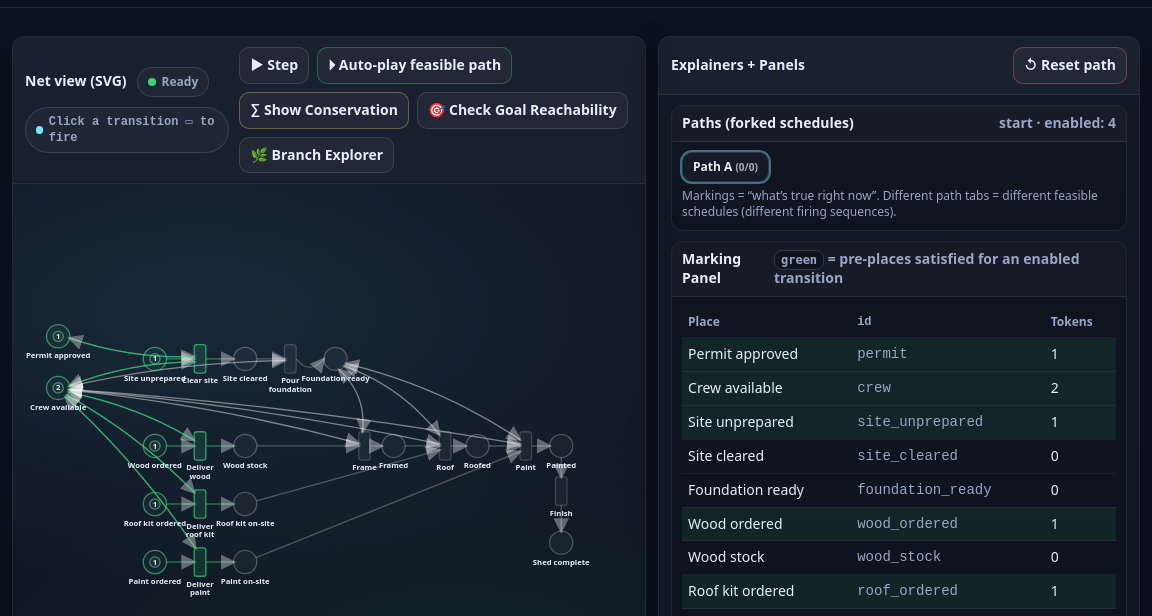
Test: Petri Net Workflow Demo static app user stories › computes conservation invariants and records them in the audit receipt
The image size is (1152, 616).
Click the button with id "btnCons".
click(324, 110)  # box [239, 92, 409, 129]
(page scrolled)
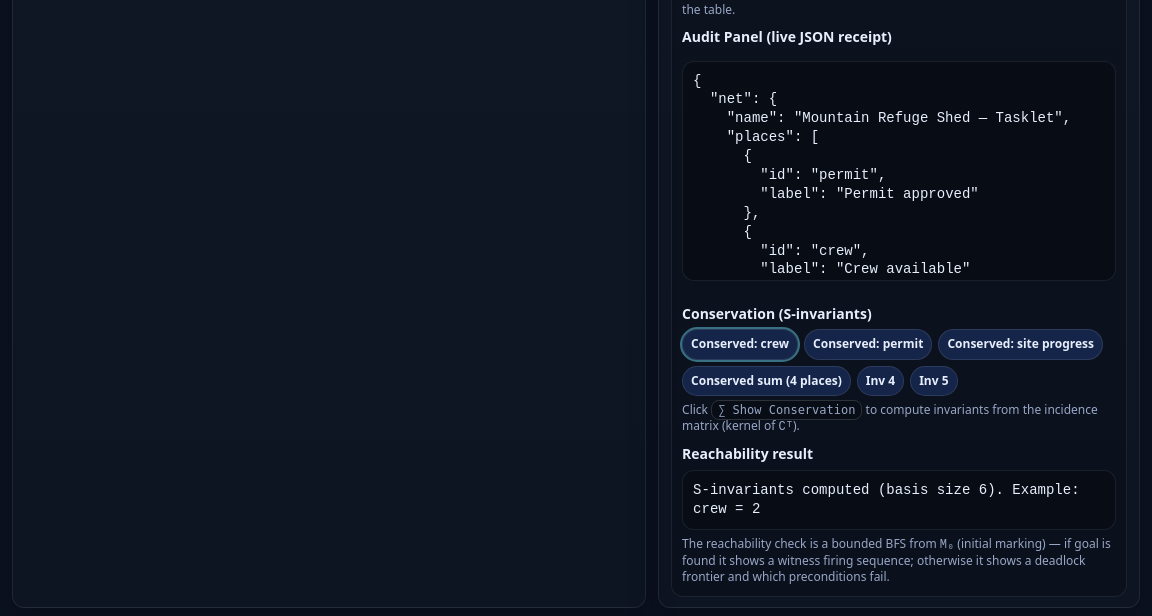
Now the element with id "invList" shows "Conserved: crew", box [691, 336, 789, 352]
Now the text with id "reachOut" shows "S-invariants computed", box [693, 482, 1080, 517]
